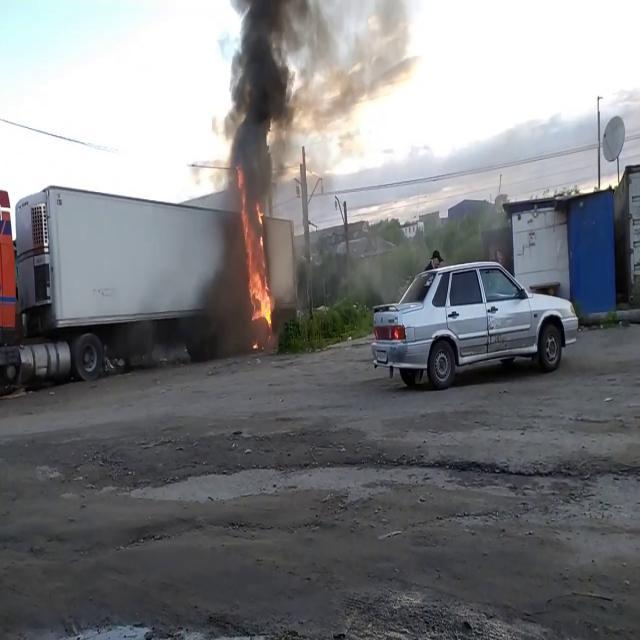Fire: (238, 180, 276, 336)
Smoke: (214, 0, 318, 202)
